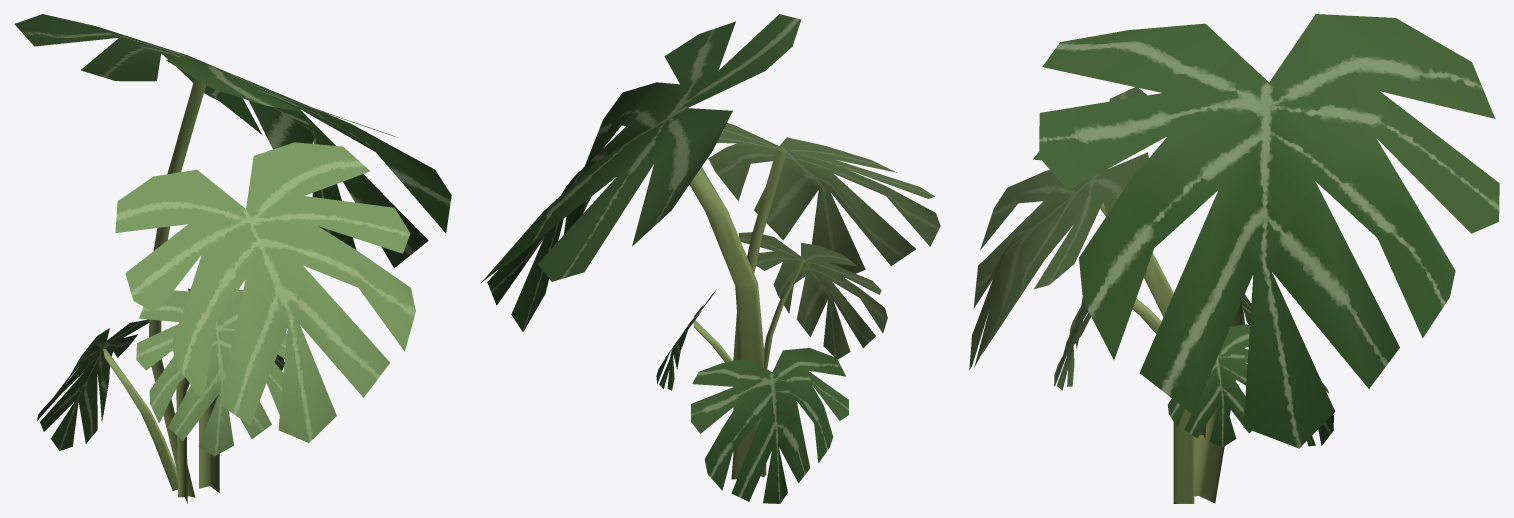
File: monsteraPlant_A.fbx
3 renders of one model, left to right at view 1: azimuth 30°, elevation 25°; view 2: azimuth 150°, elevation 25°; view 3: azimuth 270°, elevation 25°, orthographic. The views are drawn at different scales.
Parts seen in each view (by area): view 1: monsteraPlantA_geo; view 2: monsteraPlantA_geo; view 3: monsteraPlantA_geo.
Part boxes in pixels (box(x1,y1,x2,y2)): monsteraPlantA_geo: box(14, 14, 451, 503); monsteraPlantA_geo: box(481, 14, 940, 503); monsteraPlantA_geo: box(969, 14, 1499, 503).
Size of the model in its own units: 50.13 by 61.09 by 62.87.
1 material, 1 textured.
